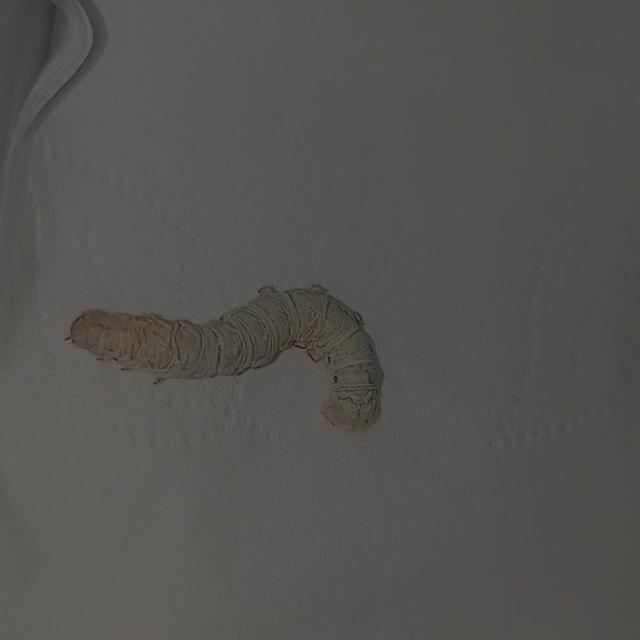Healthy: (61, 271, 400, 435)
